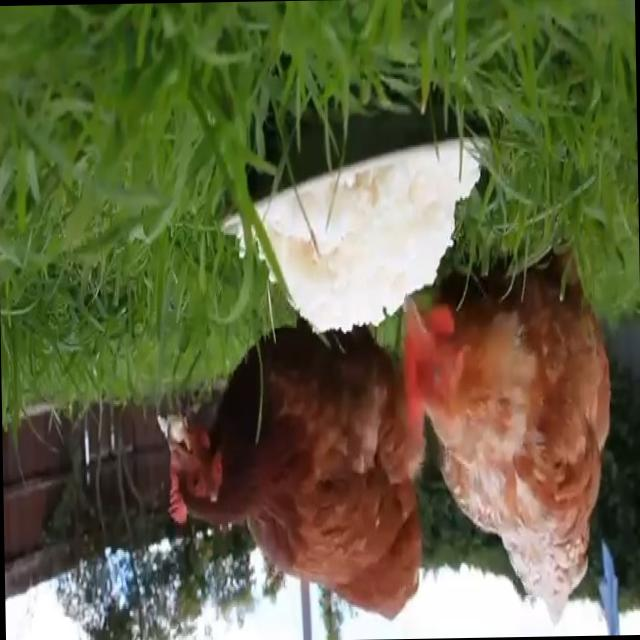feeding: (155, 302, 427, 640), (398, 243, 616, 639)
